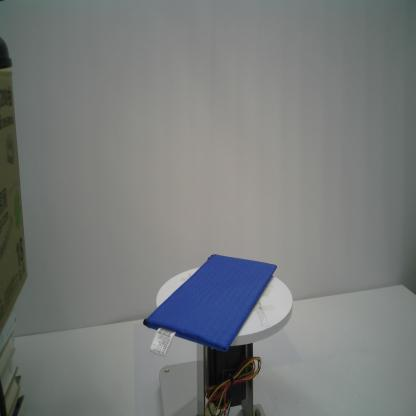Stationery: (142, 250, 279, 359)
